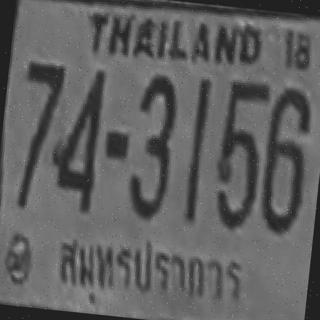N00: (210, 79, 269, 233)
N01: (182, 78, 210, 228)
N03: (123, 72, 180, 224)
N04: (53, 65, 107, 213)
N06: (259, 84, 316, 235)
N07: (12, 60, 65, 211)
P57: (46, 225, 250, 319)
